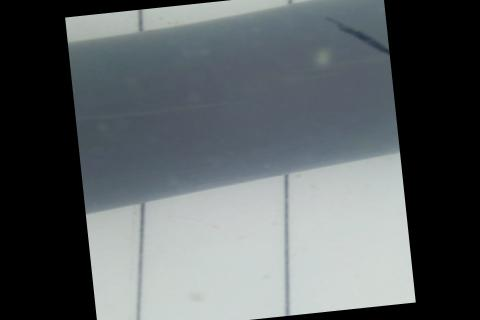keretakan: (319, 10, 390, 67)
